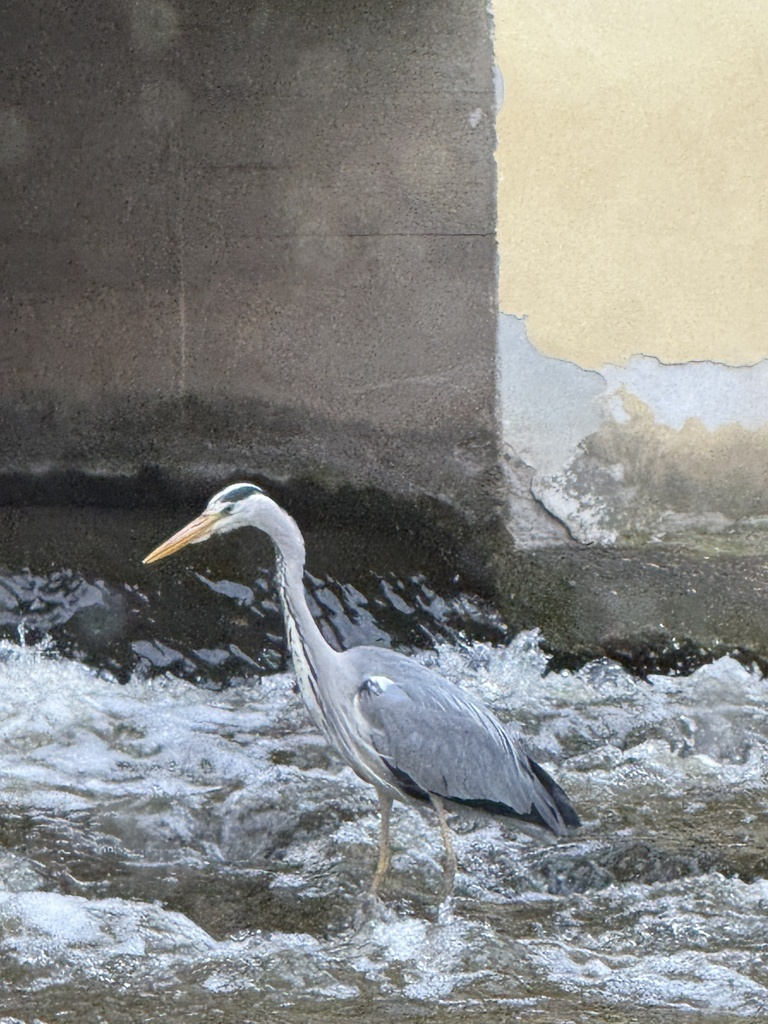heron: (141, 478, 588, 936)
